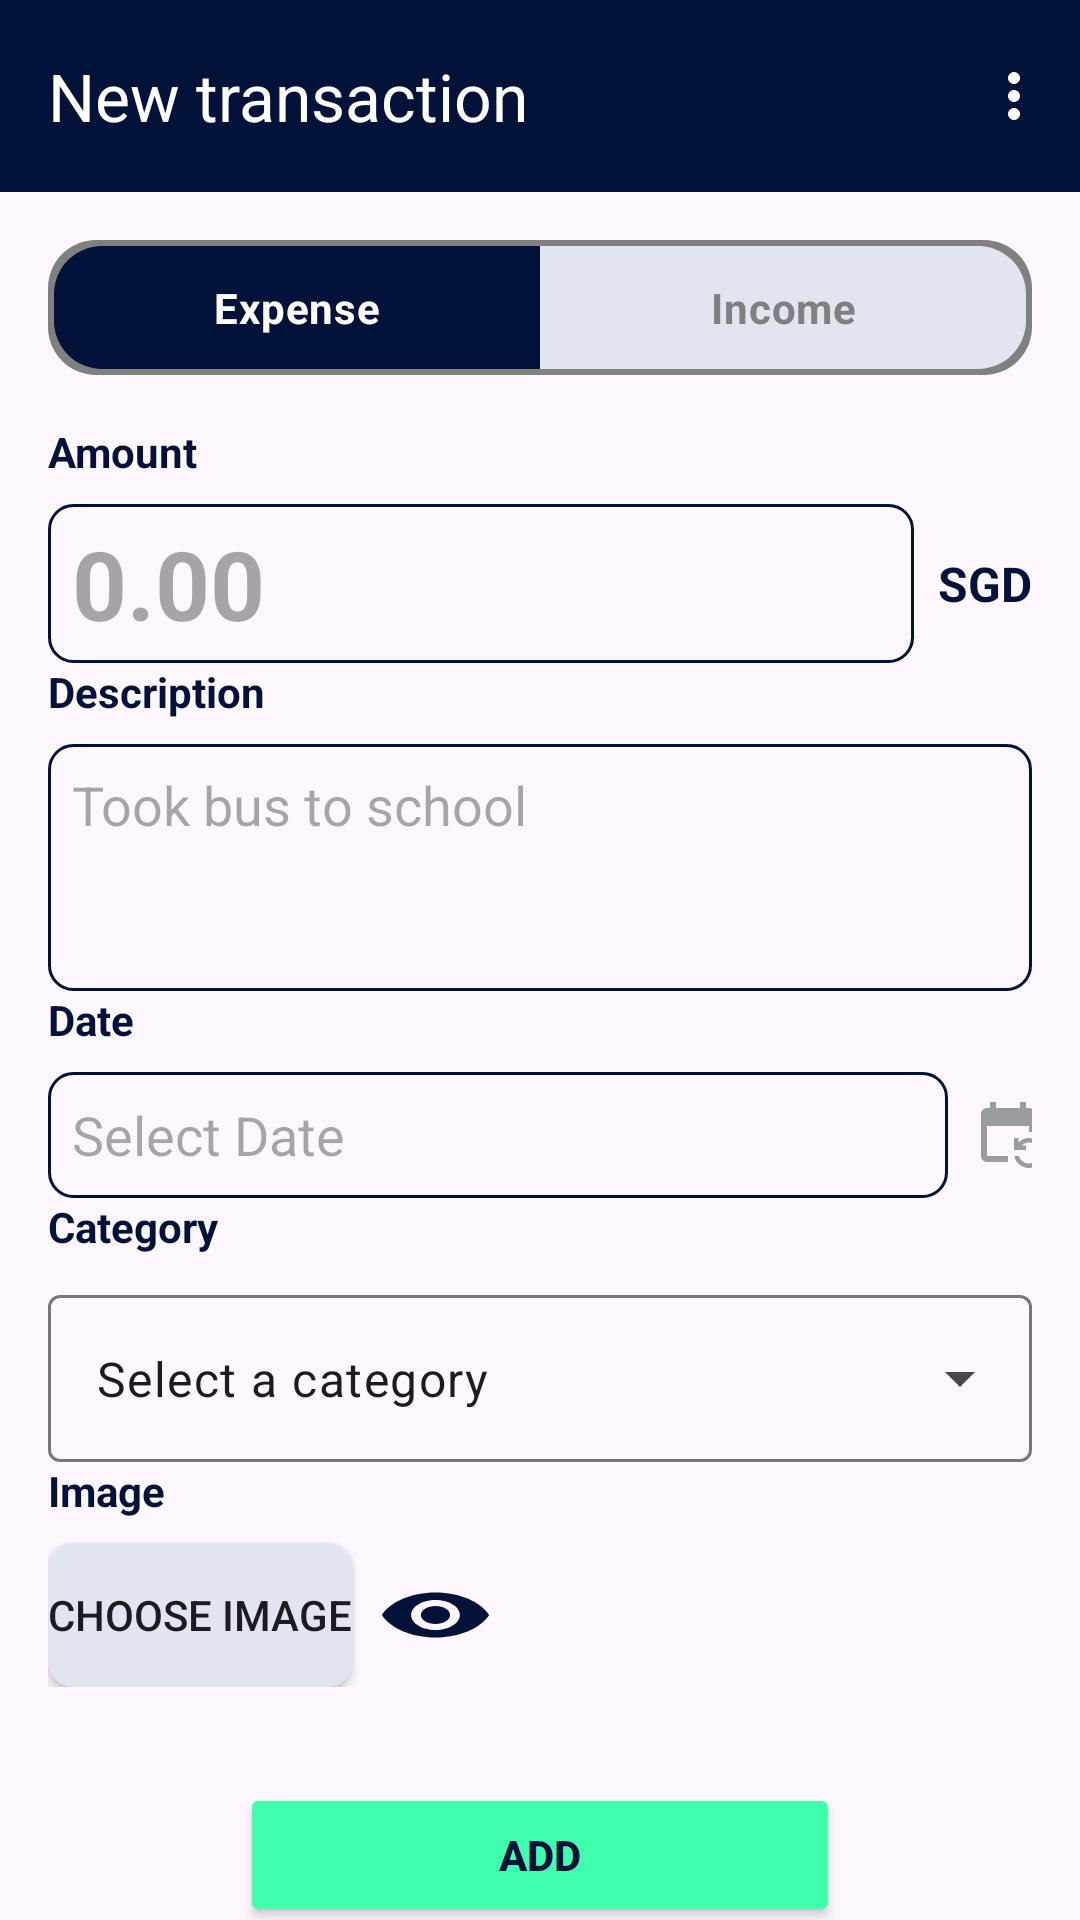

Icons on this 1080px x 1920px Android screen, each with its box as (x1, y1, x2, y2):
view: (382, 1592, 489, 1638)
